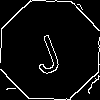J: (24, 24, 65, 77)
